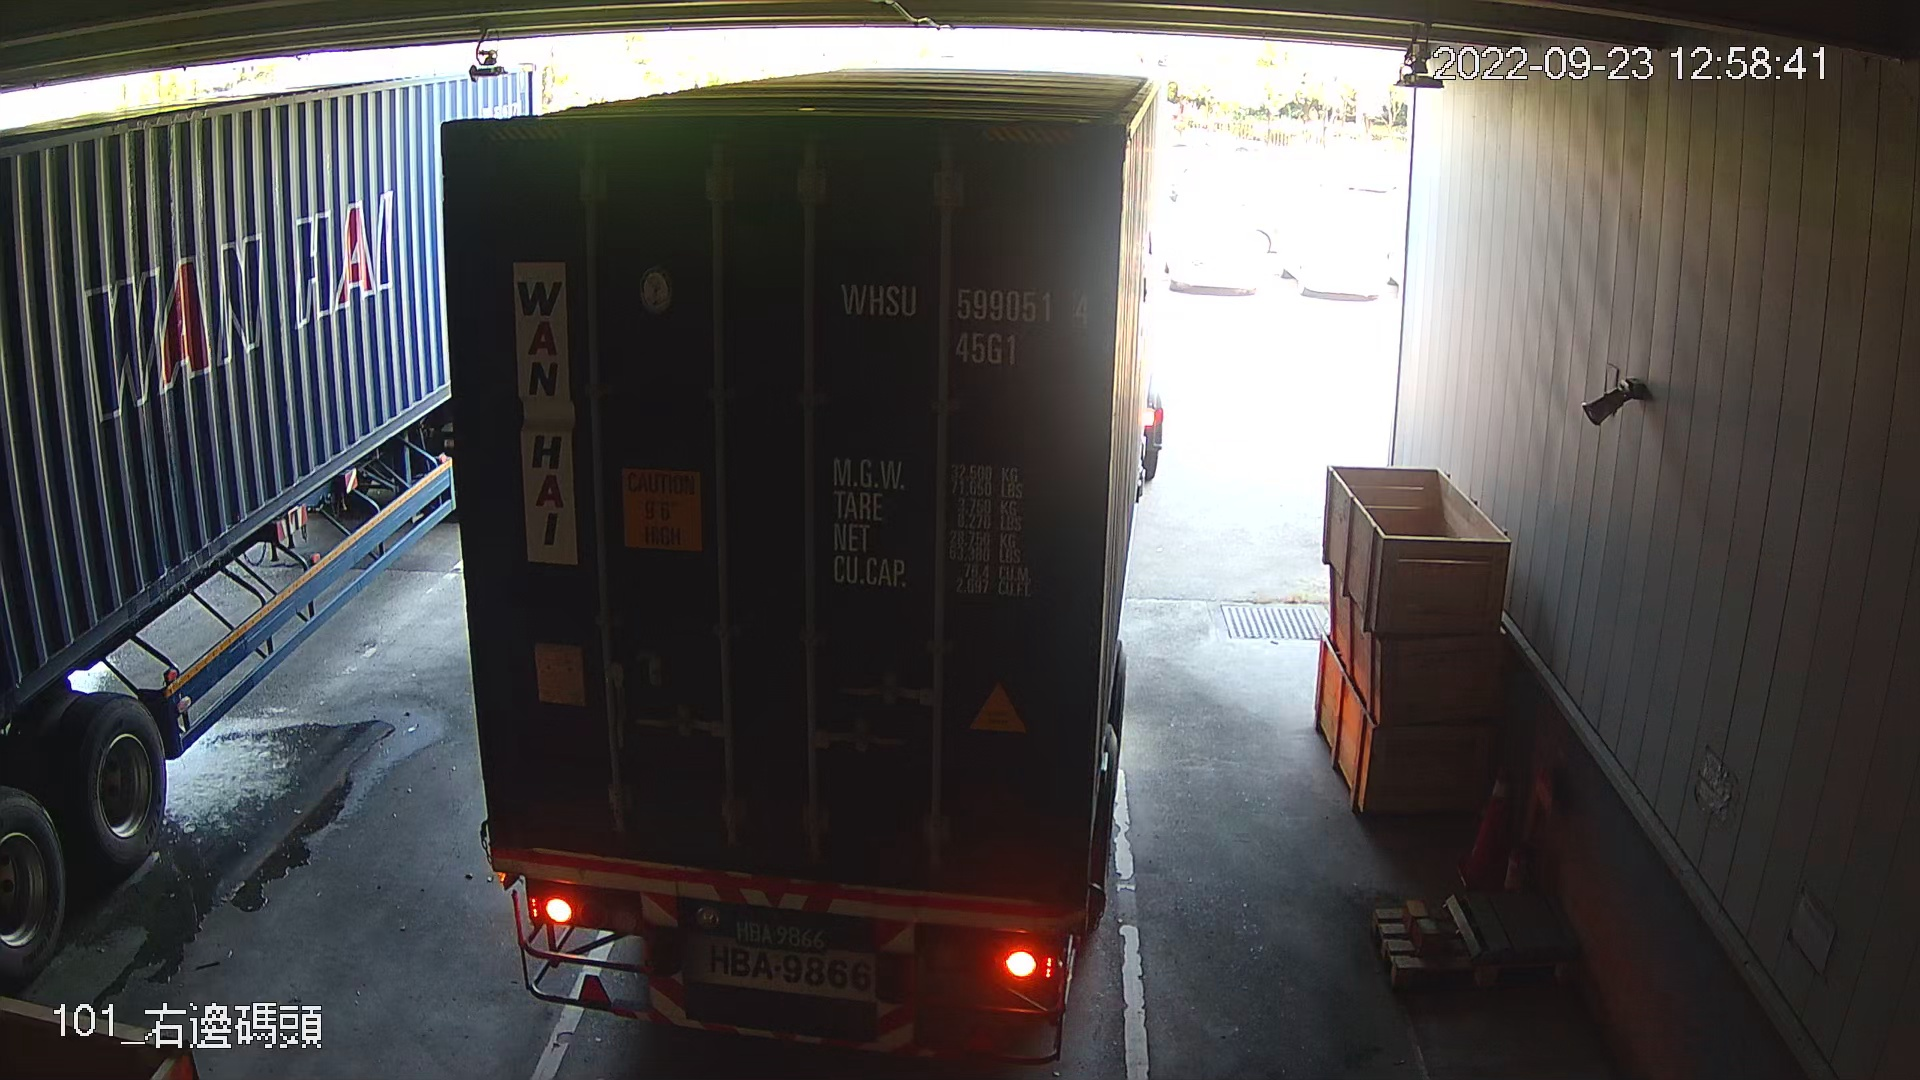container: (831, 265, 1100, 380)
